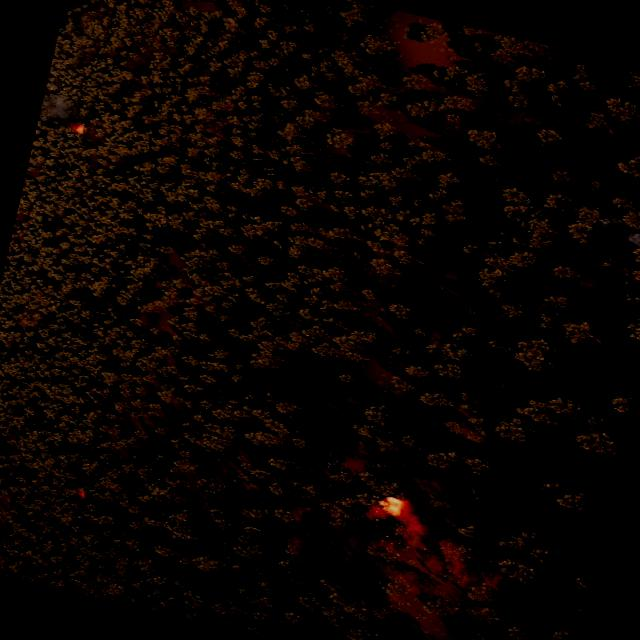fire: (379, 494, 408, 518), (72, 120, 86, 132), (76, 486, 88, 496)
smoke: (280, 488, 508, 590), (594, 199, 640, 254), (38, 88, 80, 126)
